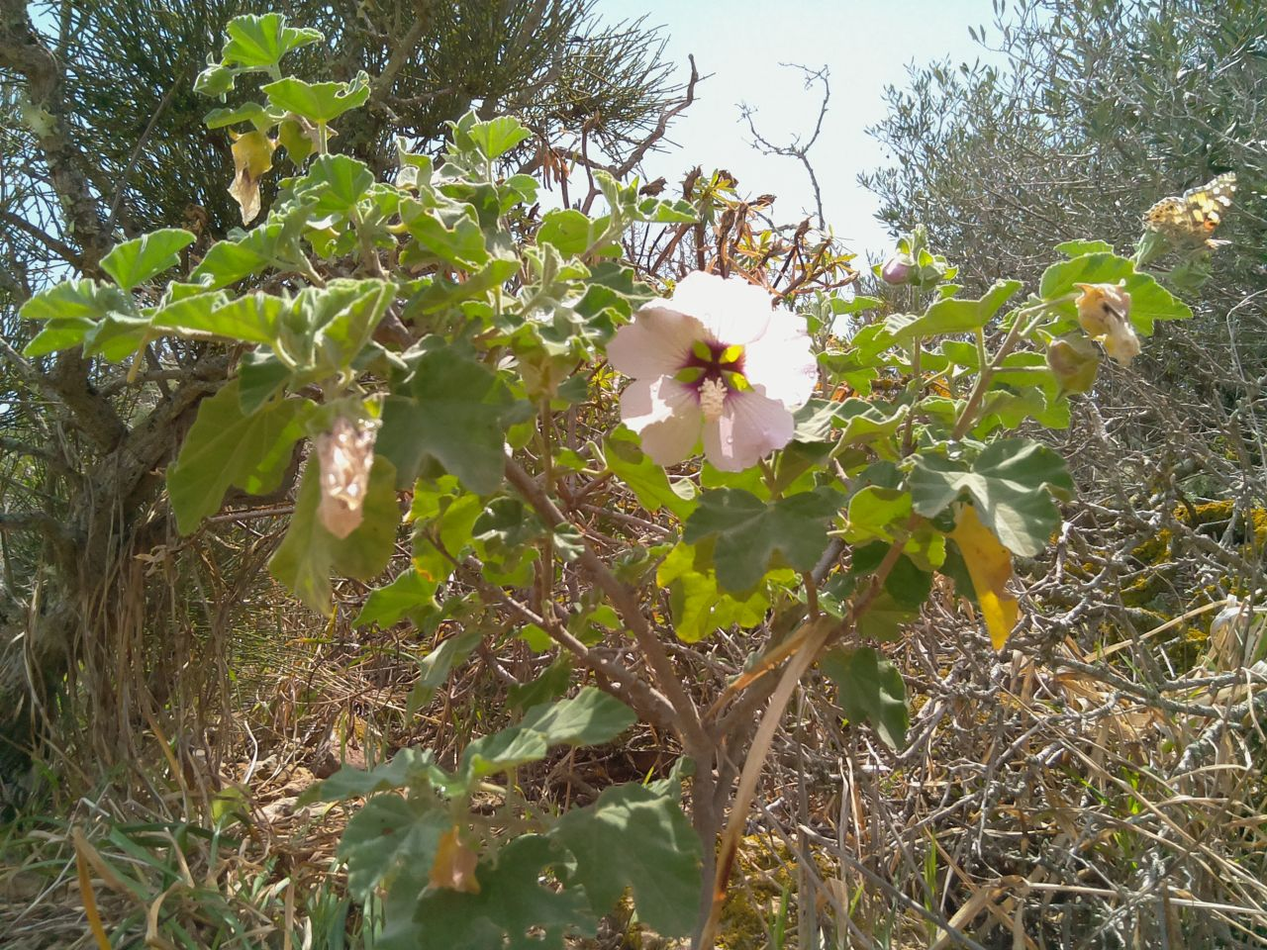Vanessa cardui: (1144, 152, 1247, 273)
